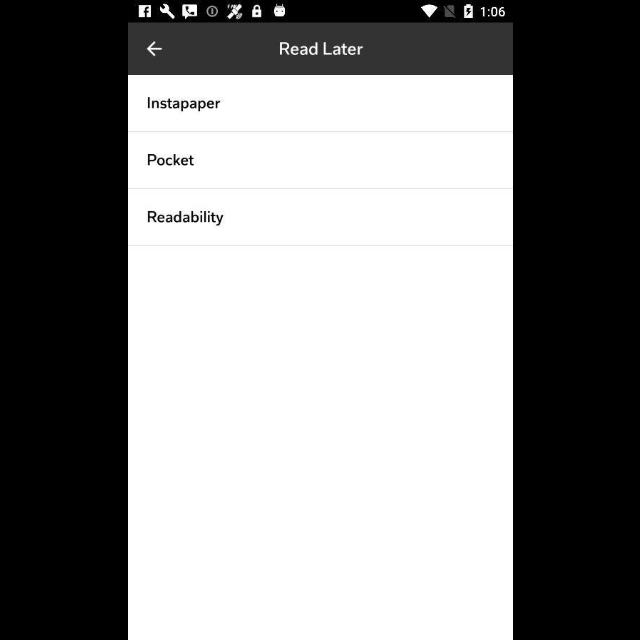icon: (146, 42, 162, 58)
text: (148, 211, 225, 227), (279, 42, 363, 56), (147, 98, 220, 112), (148, 155, 195, 167)
toolbar: (128, 24, 512, 76)
uppertaskbar: (128, 1, 512, 23)
